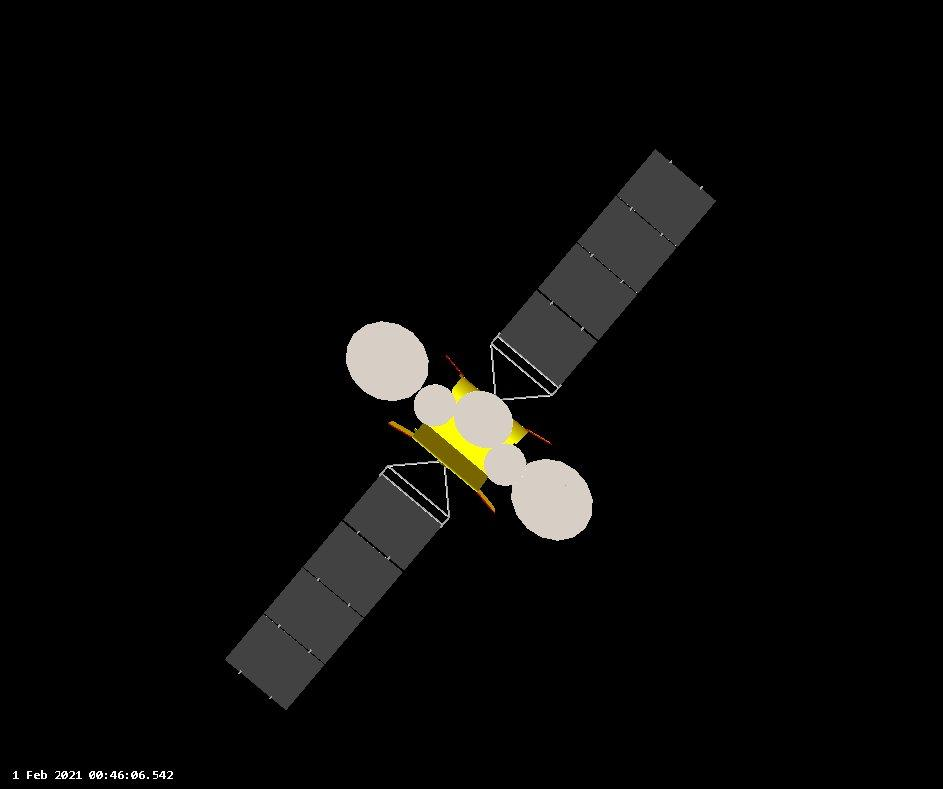antenna: (507, 457, 595, 542), (347, 316, 431, 403), (454, 389, 512, 450), (482, 436, 527, 490), (413, 378, 455, 431)
body: (408, 374, 533, 496)
solar: (482, 142, 723, 402), (220, 457, 454, 717)
